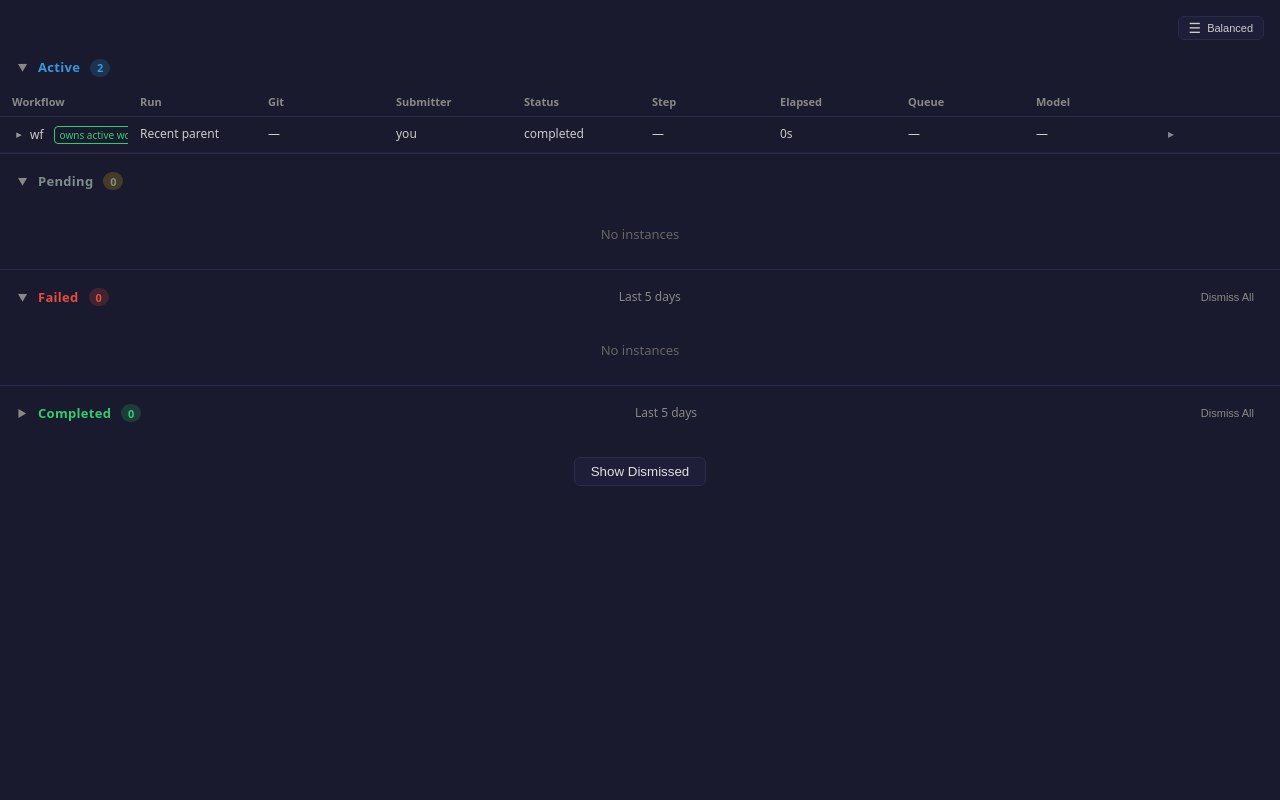
Test case: QueueView — completed ancestors that own active independent work stay discoverable (P4-T10) › lists a recent completed ancestor only in Active, returning it to history when discovery stops
Later steps or results of the test are not shown.
// Completed starts collapsed: open it so a duplicate cannot hide there.
What coordinates should you click on to do the following:
click the text "Completed"
I would click on:
 (75, 413)
Its box is [38,404,111,423].
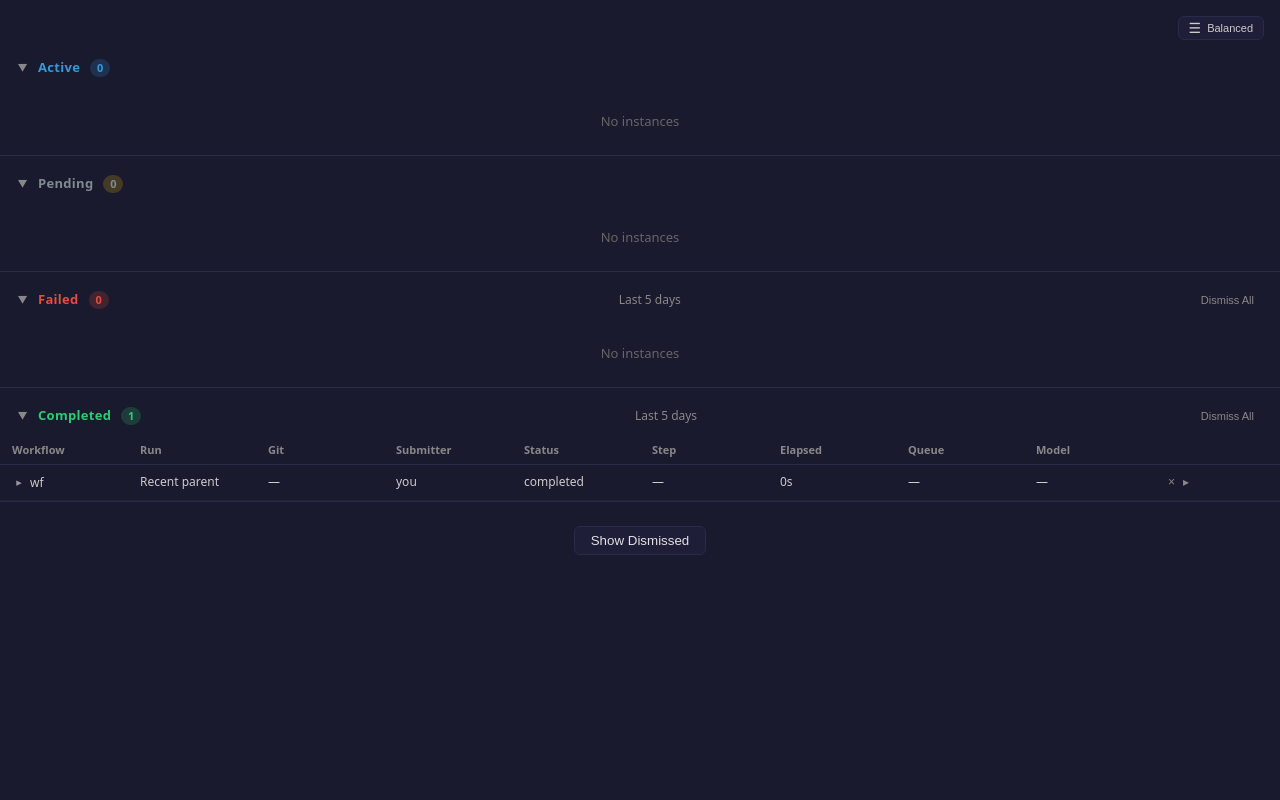
Expected: the text "owns active work" is gone
